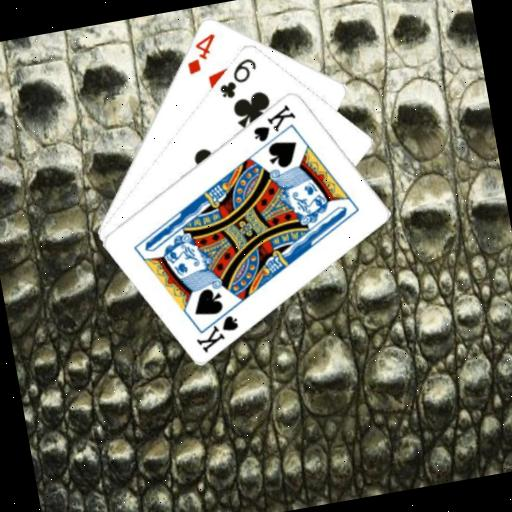4D: (178, 29, 222, 77)
6C: (211, 53, 263, 101)
KS: (188, 302, 244, 355), (246, 99, 301, 144)
